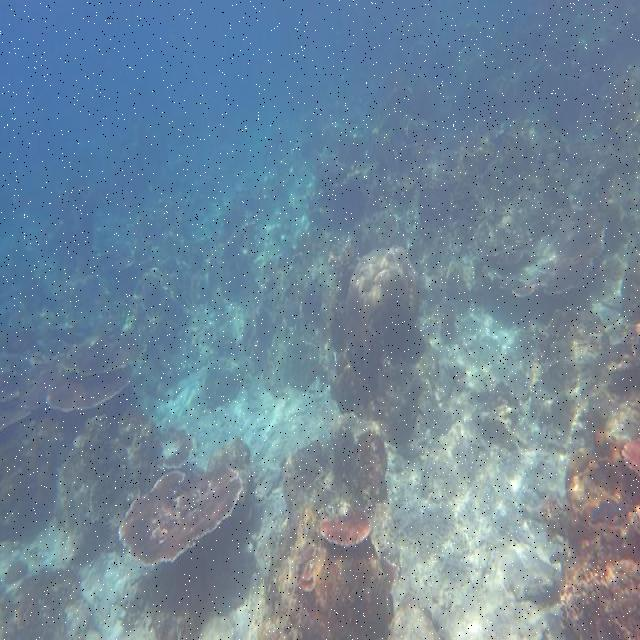reefs: (120, 464, 244, 571), (486, 210, 611, 296), (46, 331, 145, 417)
